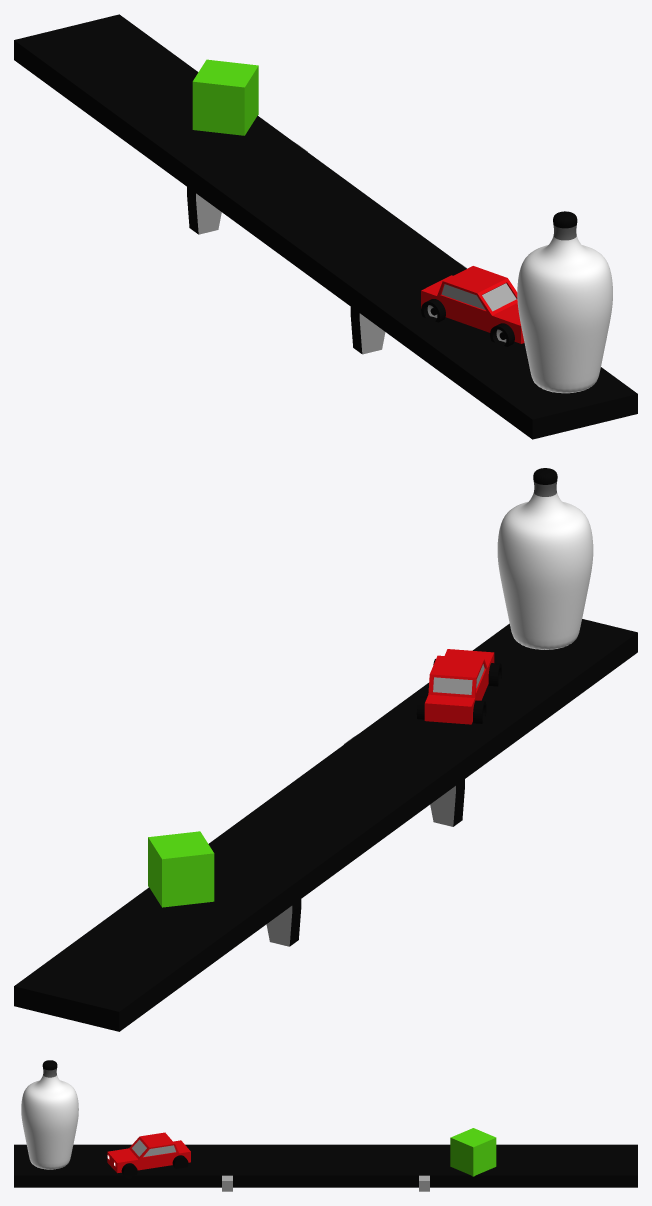
Rendered from WandPlank.glb.
The picture shows the model from 3 angles, top to bottom: view 1: azimuth 30°, elevation 25°; view 2: azimuth 150°, elevation 25°; view 3: azimuth 270°, elevation 25°; orthographic projection. The views are drawn at different scales.
Visible parts, largest first — view 1: wandplank, fles, auto, kubus; view 2: wandplank, fles, auto, kubus; view 3: wandplank, fles, auto, kubus.
Boxes of the visible parts, x1,y1,x2,y2 form: wandplank: (14, 14, 637, 439); fles: (517, 211, 612, 393); auto: (421, 266, 524, 346); kubus: (192, 59, 258, 135); wandplank: (14, 619, 637, 1031); fles: (497, 468, 593, 649); auto: (416, 649, 501, 724); kubus: (148, 831, 214, 907); wandplank: (14, 1144, 637, 1191); fles: (21, 1060, 78, 1169); auto: (107, 1132, 190, 1178); kubus: (450, 1128, 496, 1176).
Size of the model in its own units: 0.3228 by 0.6366 by 2.59.
